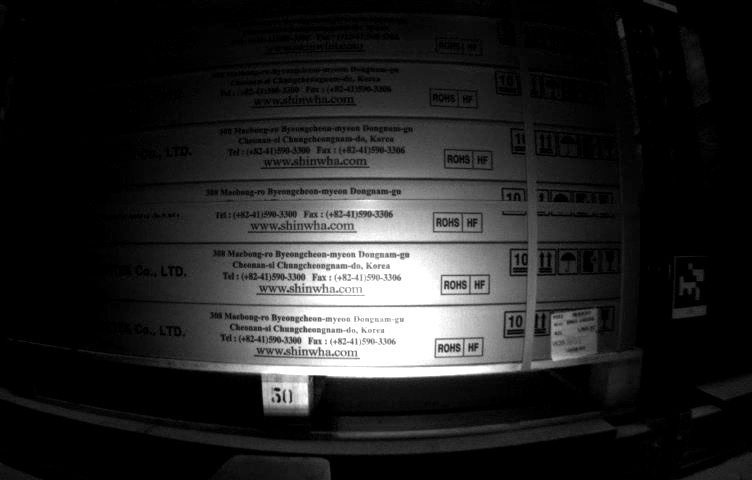True Barcode: (548, 307, 598, 361)
